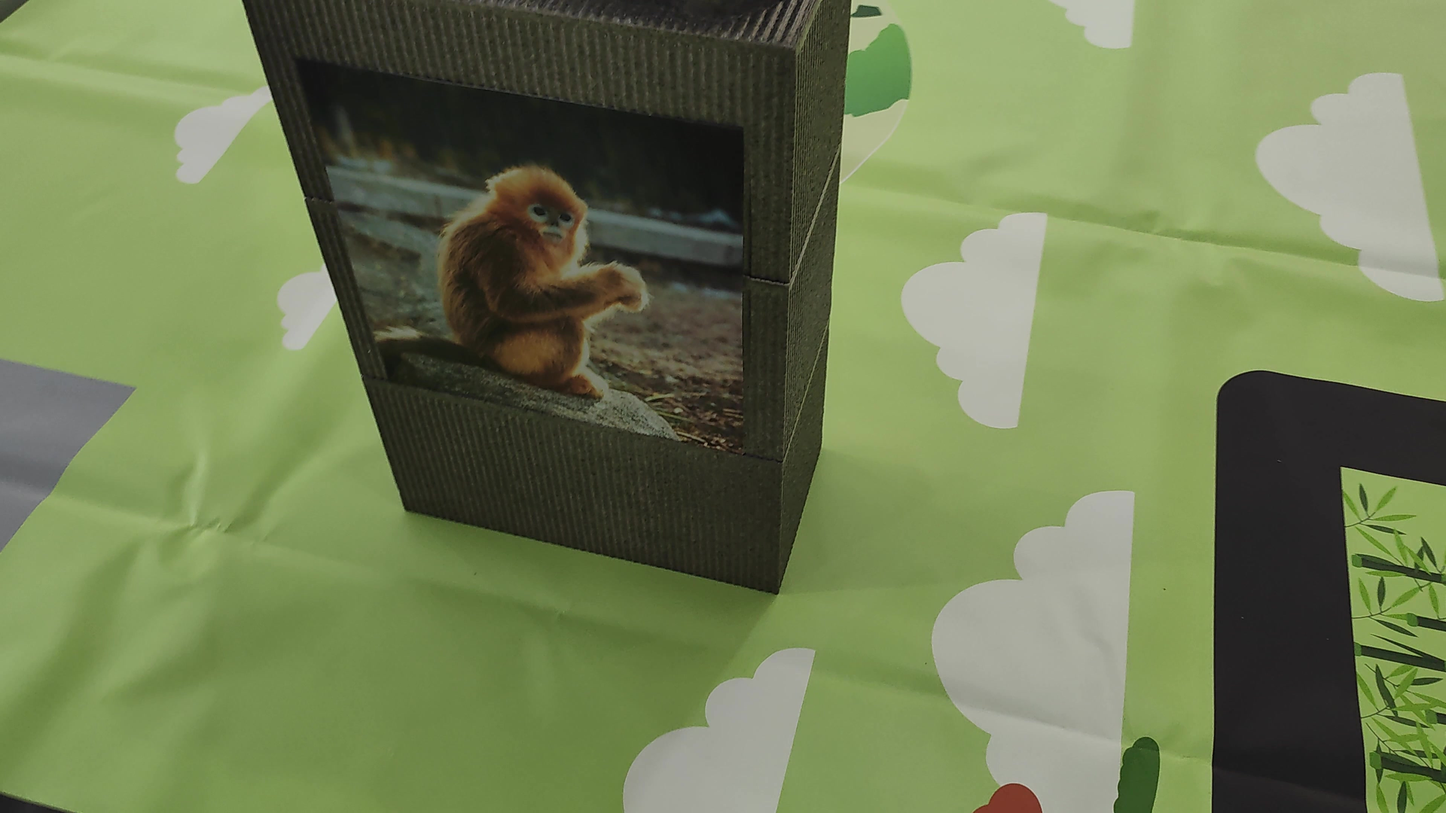monkey: (412, 143, 677, 396)
